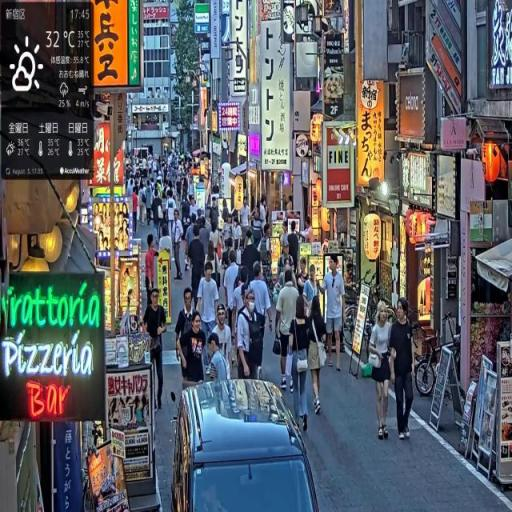person: (389, 296, 418, 442), (368, 302, 395, 443), (288, 296, 315, 434), (142, 288, 168, 412), (275, 267, 300, 393), (248, 260, 273, 380), (238, 284, 267, 379), (308, 298, 331, 417), (323, 255, 346, 373), (196, 261, 220, 349), (180, 311, 208, 386), (211, 303, 235, 382), (189, 228, 208, 317), (226, 251, 243, 317), (171, 210, 186, 281), (303, 266, 321, 324), (206, 240, 221, 300), (234, 267, 250, 321), (153, 190, 166, 248), (146, 235, 157, 300), (251, 206, 264, 251), (298, 256, 310, 303), (241, 197, 251, 249), (209, 223, 223, 259), (223, 215, 235, 254), (187, 213, 198, 255), (210, 198, 221, 237), (223, 238, 234, 275), (235, 216, 244, 255), (261, 198, 269, 239), (196, 209, 206, 234), (281, 195, 287, 214), (288, 196, 295, 212)
